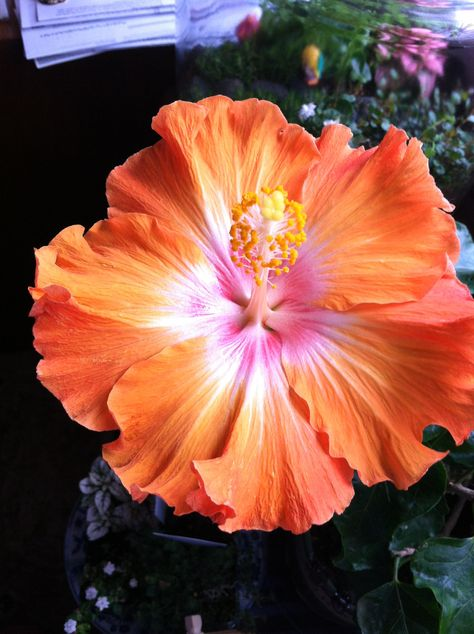Hibiscus: (25, 78, 474, 539)
